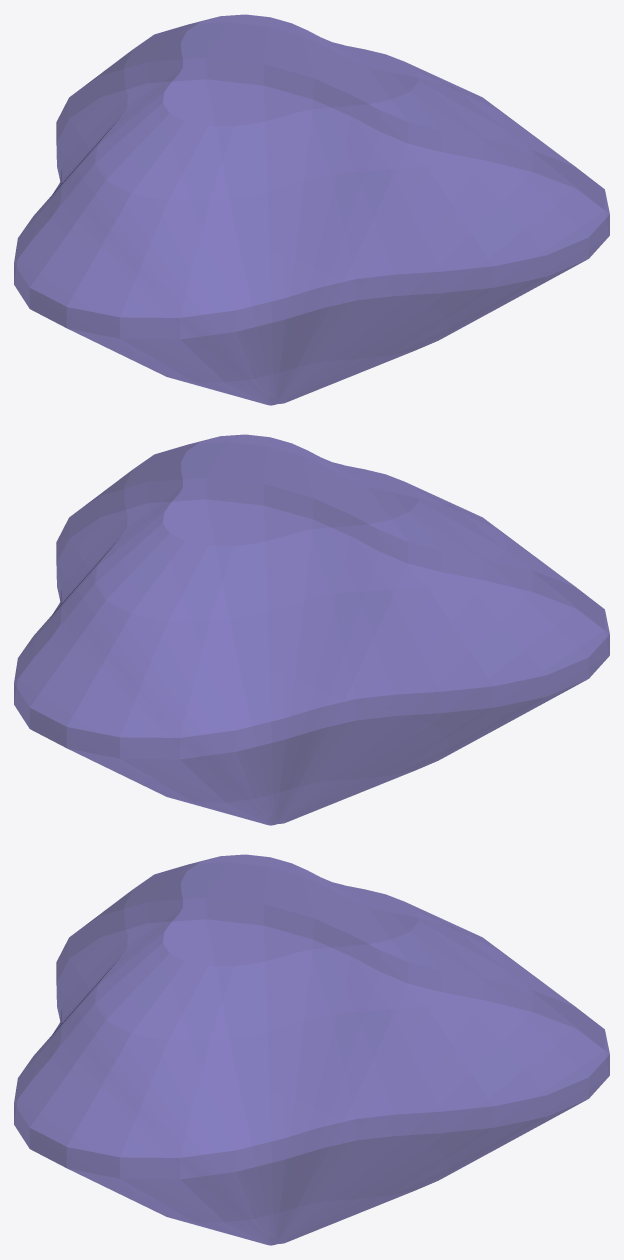
Rendered from stone-tanzanite.glb.
3 renders of one model, top to bottom at view 1: azimuth 30°, elevation 25°; view 2: azimuth 150°, elevation 25°; view 3: azimuth 270°, elevation 25°, orthographic.
Visible parts, largest first — view 1: Sculpture; view 2: Sculpture; view 3: Sculpture.
Boxes of the visible parts, x1,y1,x2,y2 form: Sculpture: (14, 14, 609, 405); Sculpture: (14, 434, 609, 825); Sculpture: (14, 854, 609, 1245).
Bounding box in the file's own units: 1.82 × 1.07 × 1.76.
